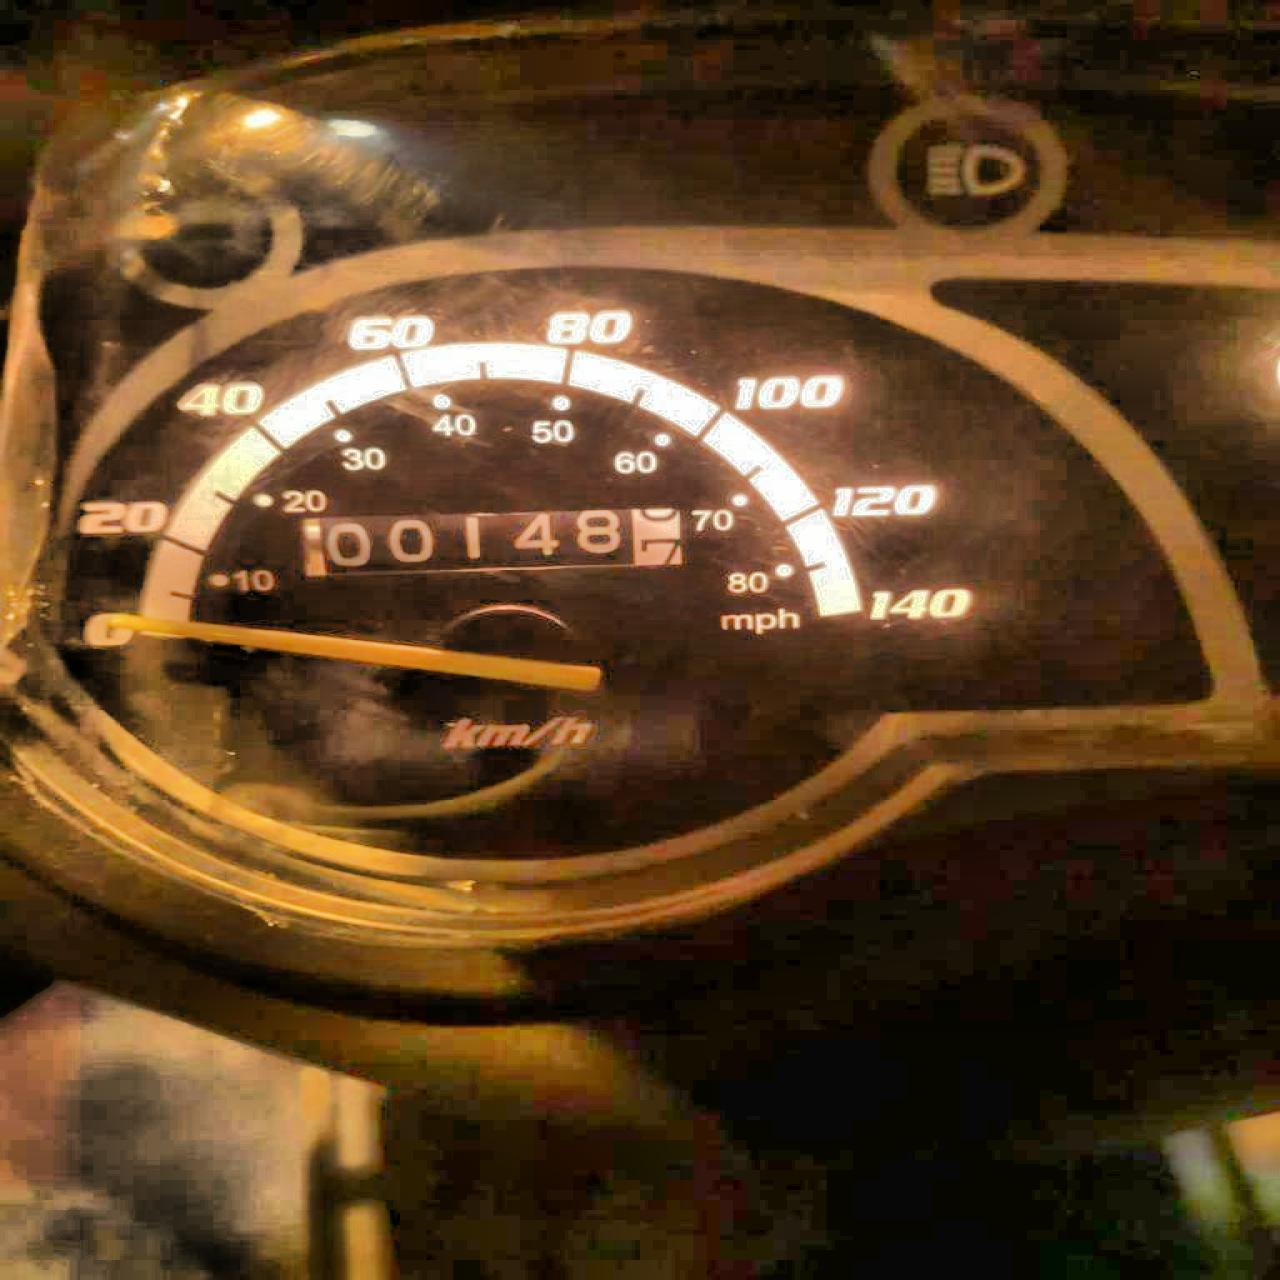0: (324, 522, 372, 566), (386, 517, 431, 563)
1: (462, 513, 482, 558)
4: (511, 511, 557, 554)
7: (639, 537, 680, 572)
8: (576, 509, 620, 552)
odometer: (293, 506, 688, 579)
